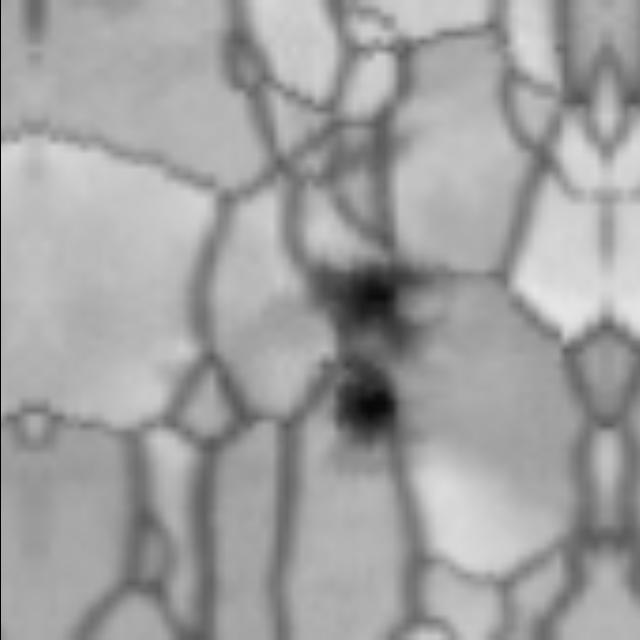good_void: (289, 331, 433, 476), (311, 259, 418, 365)
